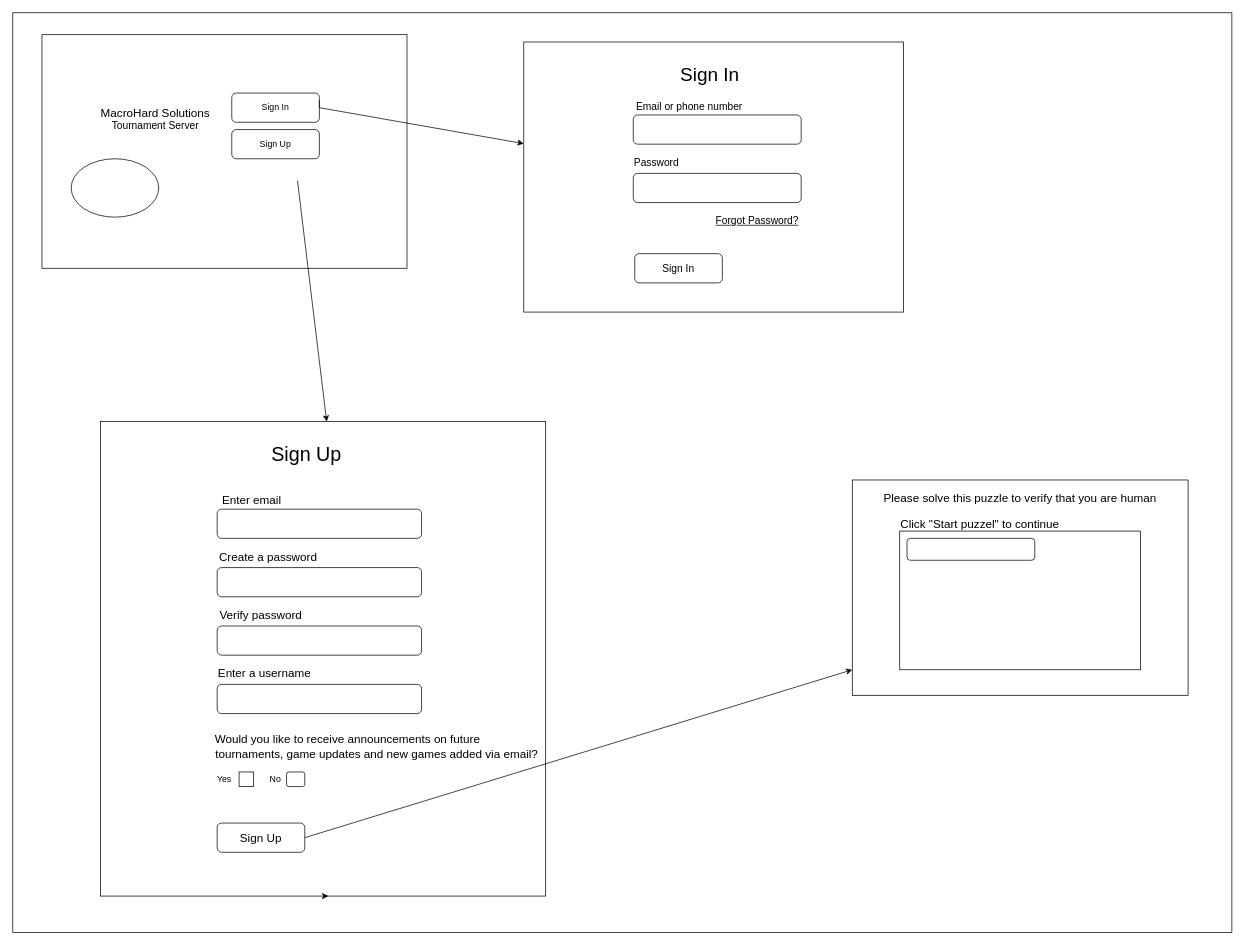
Image size: 1245x945. Some labels were removed from this diagram. Here are the shapes that lost their labels. From the top down, the box of each, then its label:
(70, 158, 159, 217): Popular games Animation as background
(906, 538, 1035, 560): Start Puzzle
